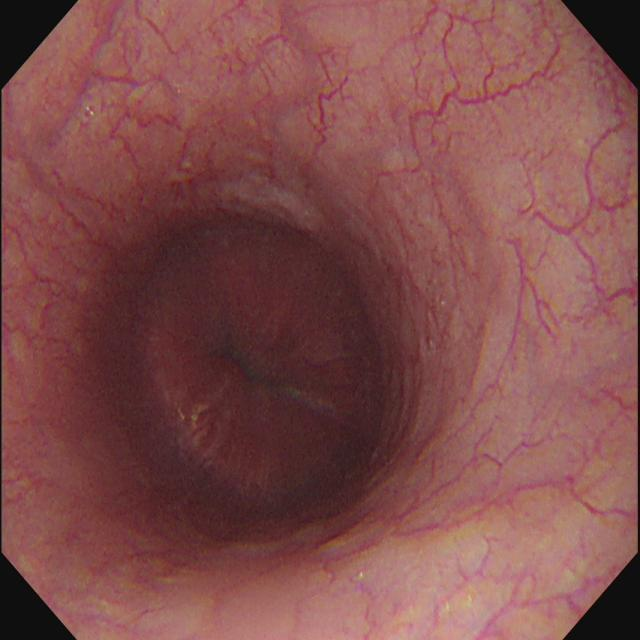I: (116, 196, 387, 532)
